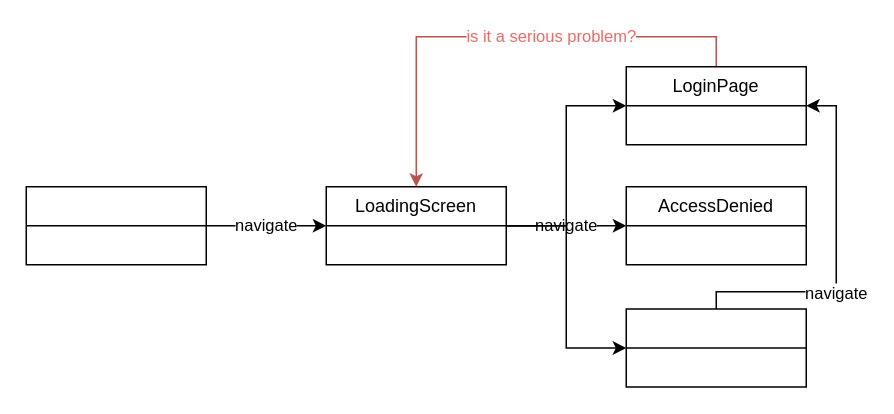
Some shapes in this 894 by 414 pixel diagram are drawn without their labels. The centre of each missing label's shape, as x and y in pixels:
"HomePage" belongs at (715,347).
"main" belongs at (115,225).
